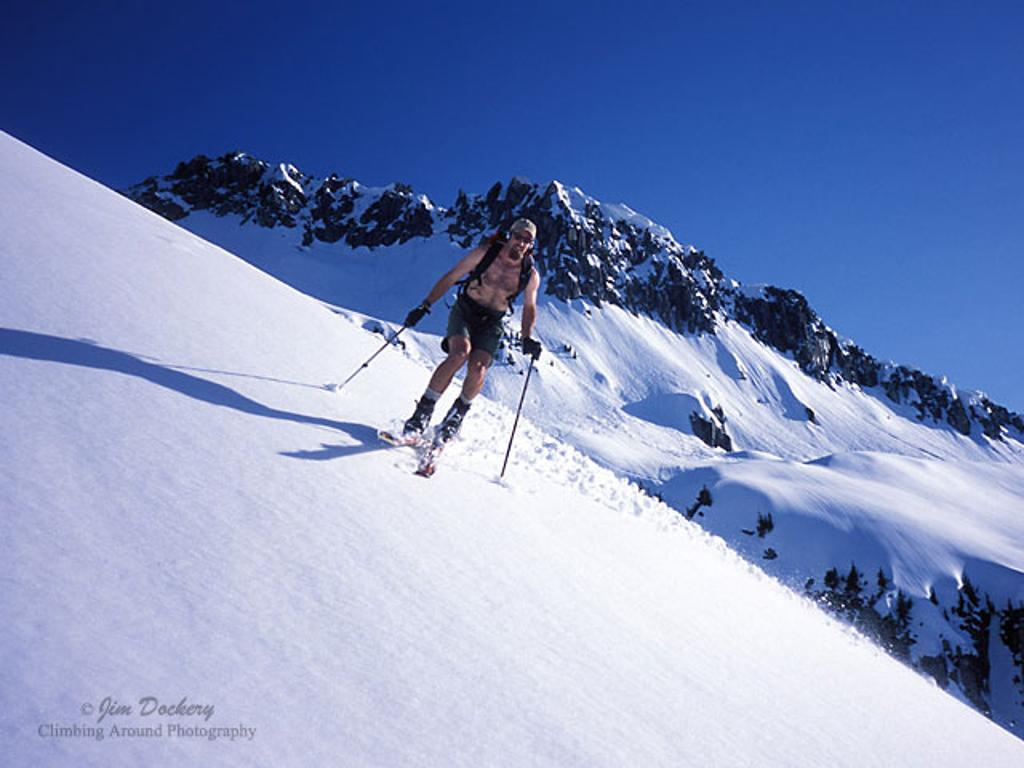face: (509, 229, 531, 256)
